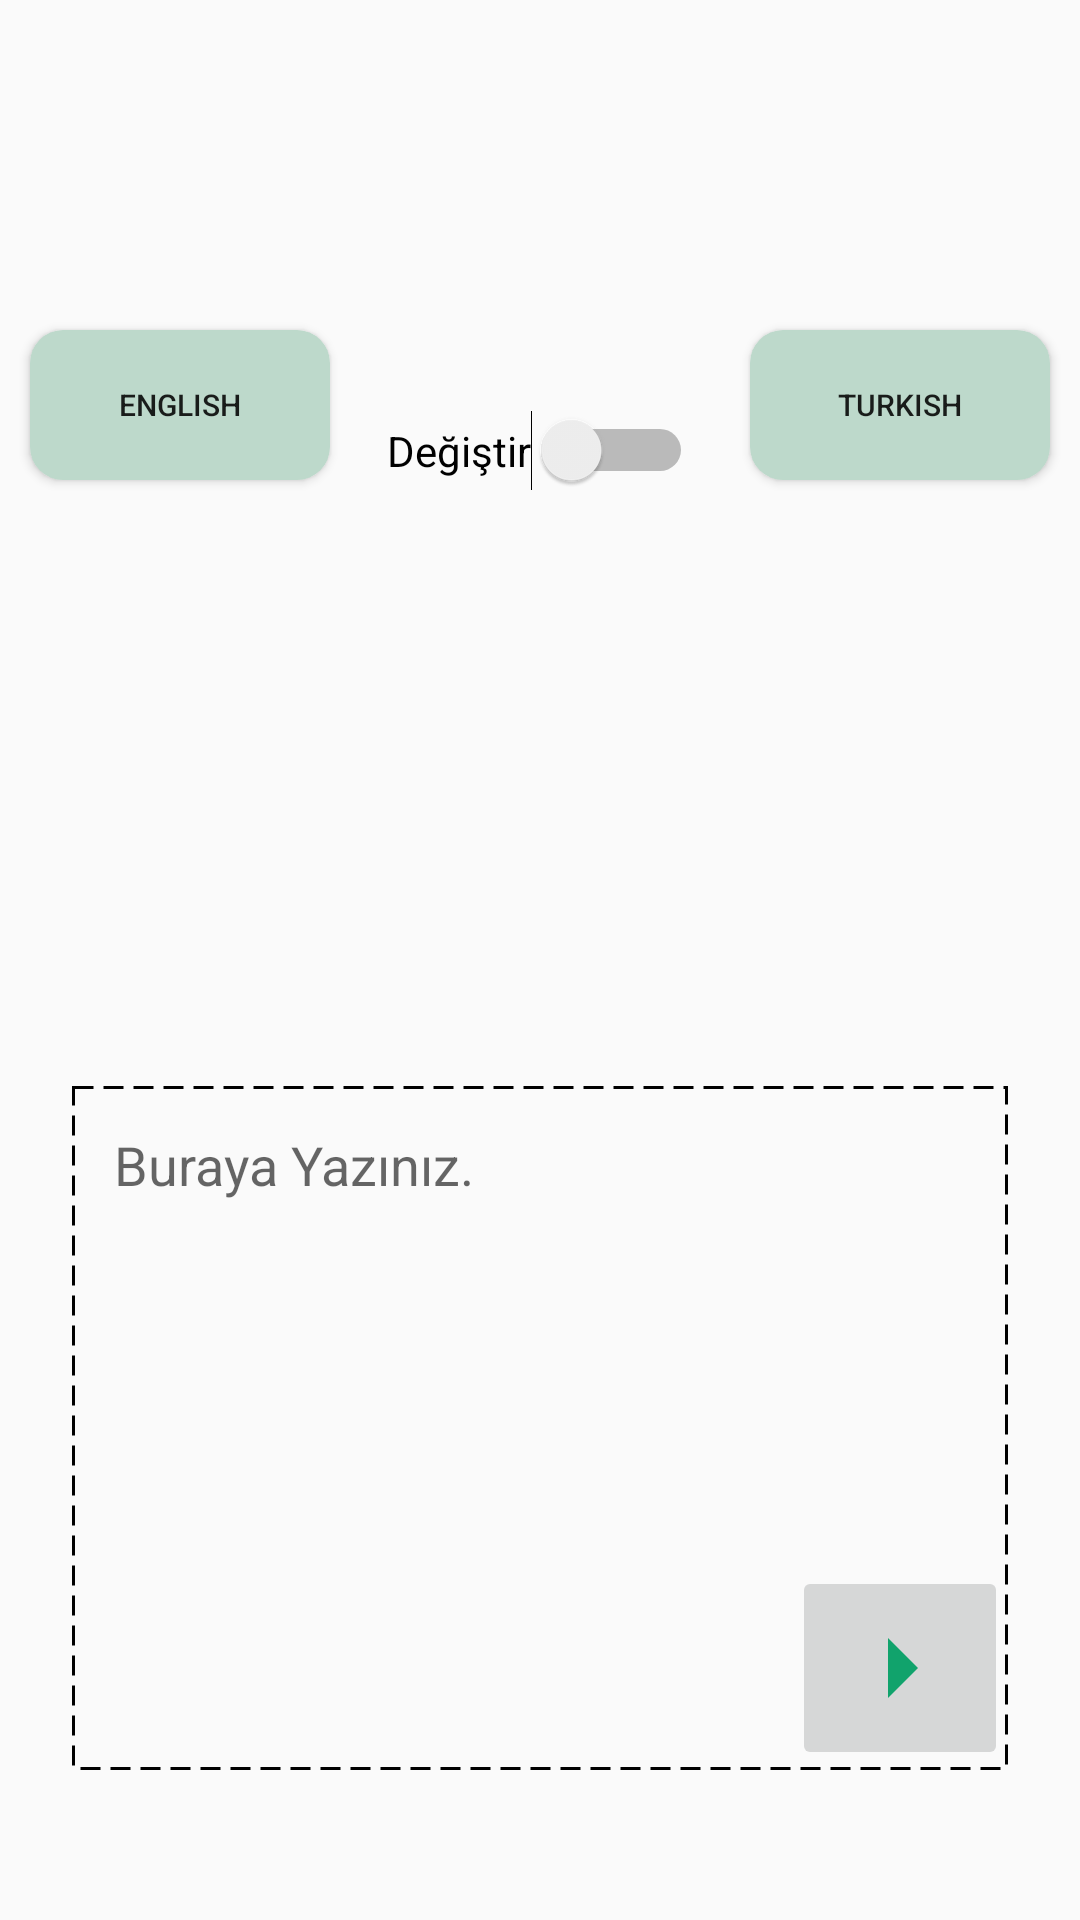

Icon click points for this 1080w x 1920h phone screenshot, format (x=x, y=y):
arrow: (x=904, y=1668)
